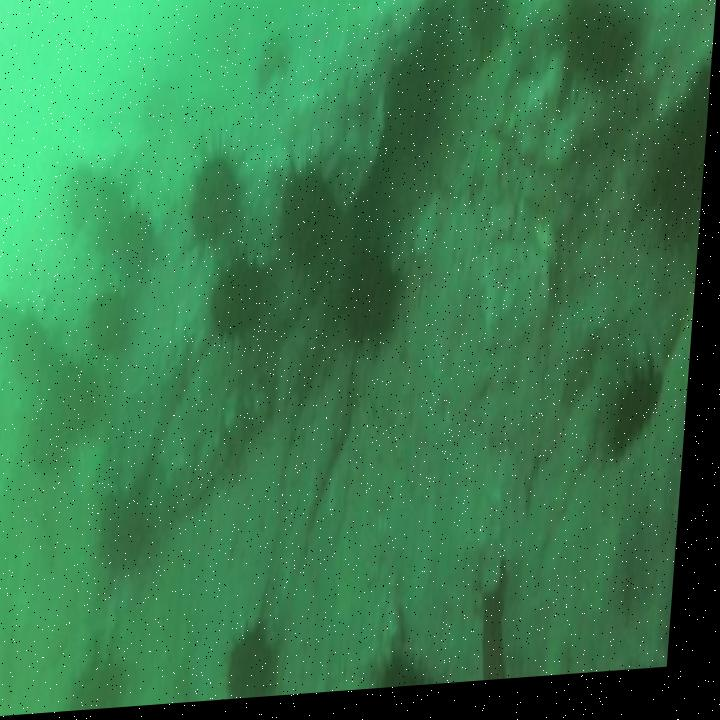echinus: (565, 0, 639, 98), (280, 176, 336, 269), (347, 260, 402, 354), (191, 159, 246, 248), (210, 268, 271, 342), (617, 379, 668, 466), (105, 492, 157, 575), (237, 637, 288, 704), (58, 364, 99, 436), (18, 314, 55, 390), (32, 408, 75, 469), (462, 0, 511, 53), (93, 291, 134, 354), (81, 662, 129, 713), (98, 184, 127, 263), (70, 166, 100, 232), (124, 217, 160, 267)
